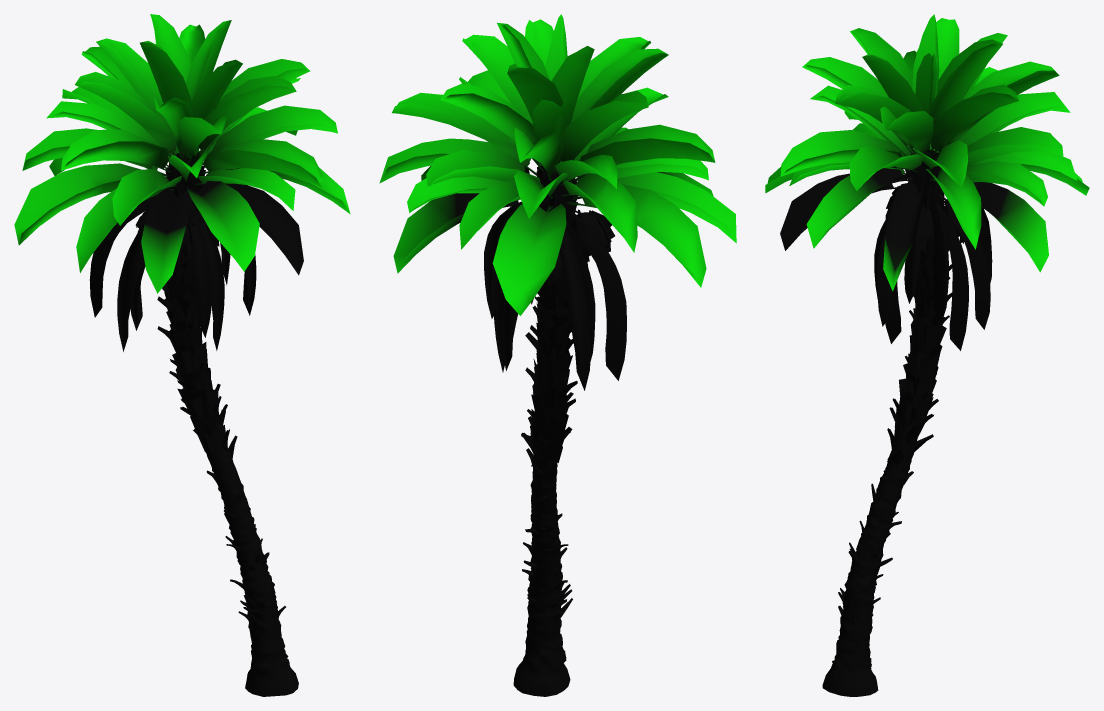
The picture shows the model from 3 angles, left to right: view 1: azimuth 30°, elevation 25°; view 2: azimuth 150°, elevation 25°; view 3: azimuth 270°, elevation 25°; orthographic projection. The views are drawn at different scales.
Visible parts, largest first — view 1: SM_TR_DatePalm_11m_HD; view 2: SM_TR_DatePalm_11m_HD; view 3: SM_TR_DatePalm_11m_HD.
Part boxes in pixels (bbox=[...]): SM_TR_DatePalm_11m_HD: bbox=[14, 14, 350, 696]; SM_TR_DatePalm_11m_HD: bbox=[379, 14, 736, 696]; SM_TR_DatePalm_11m_HD: bbox=[765, 14, 1089, 696].
Bounding box in the file's own units: 193 × 197 × 415.
